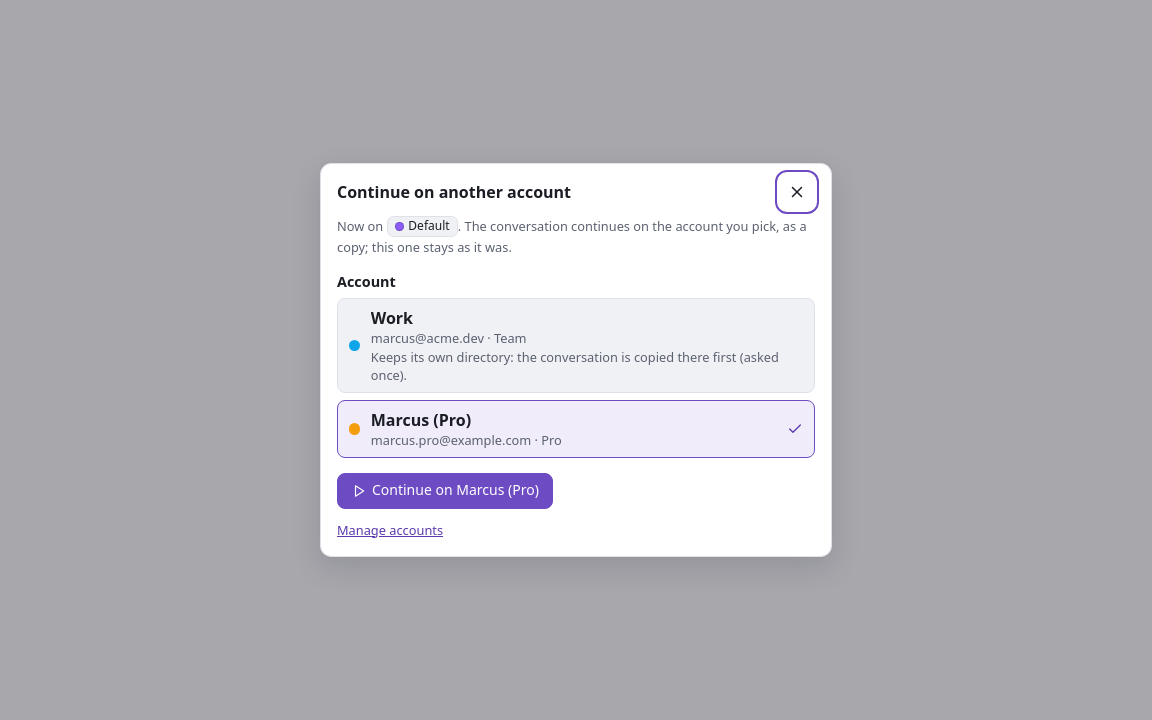
ContinueOnSheetComponent › "Not now" leaves everything as it was
Step 1. Click the radio button with class "opt" that starts with "Work" → (576, 345), box [337,298,815,393]
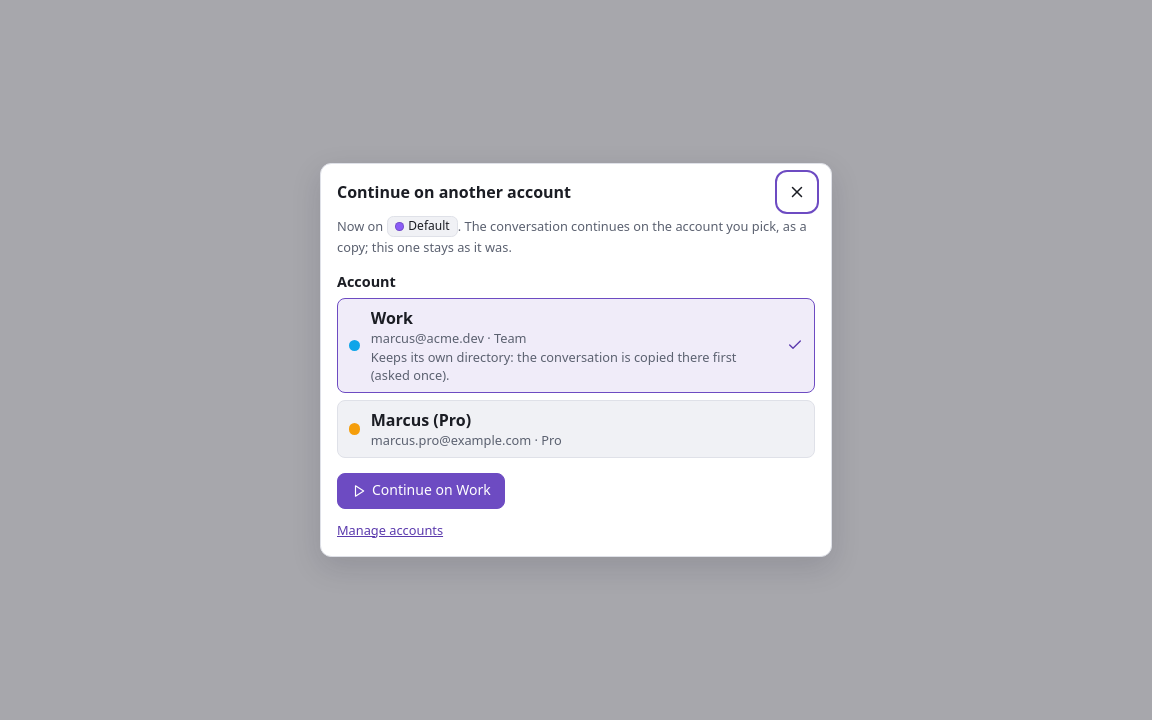
Step 2. Click the button "Continue on Work" → (421, 491), box [337,473,505,509]
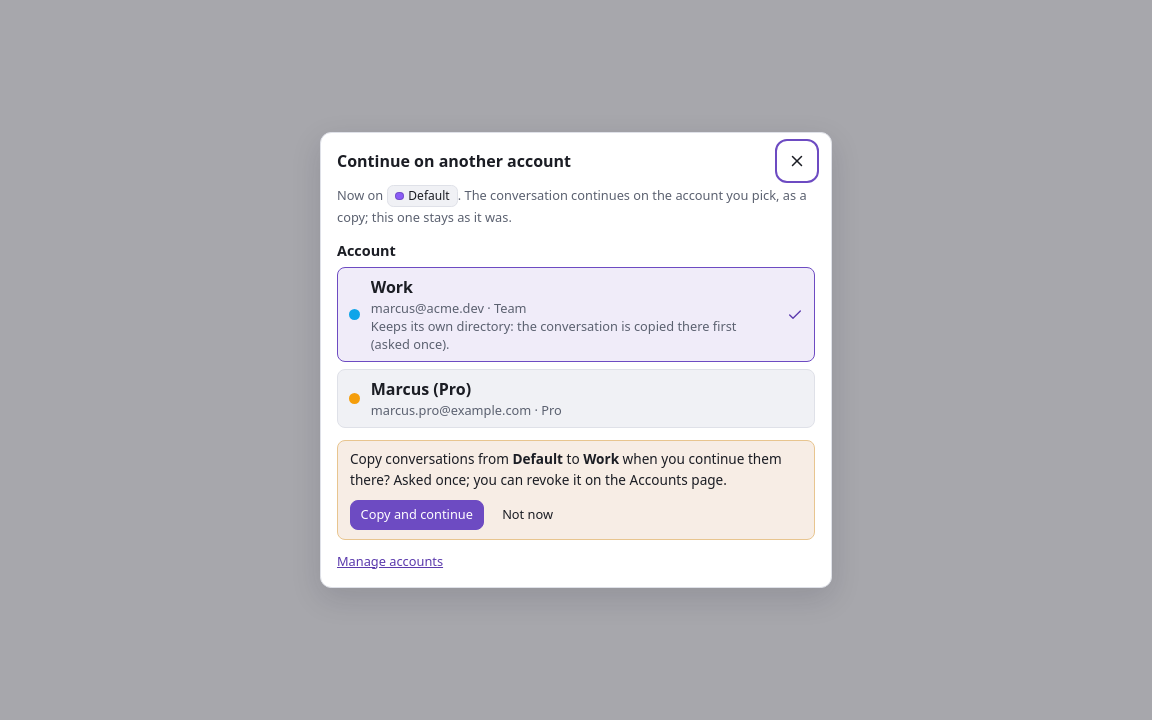
Step 3. Click the button with class "ghost" showing "Not now" → (528, 515), box [492,500,564,530]
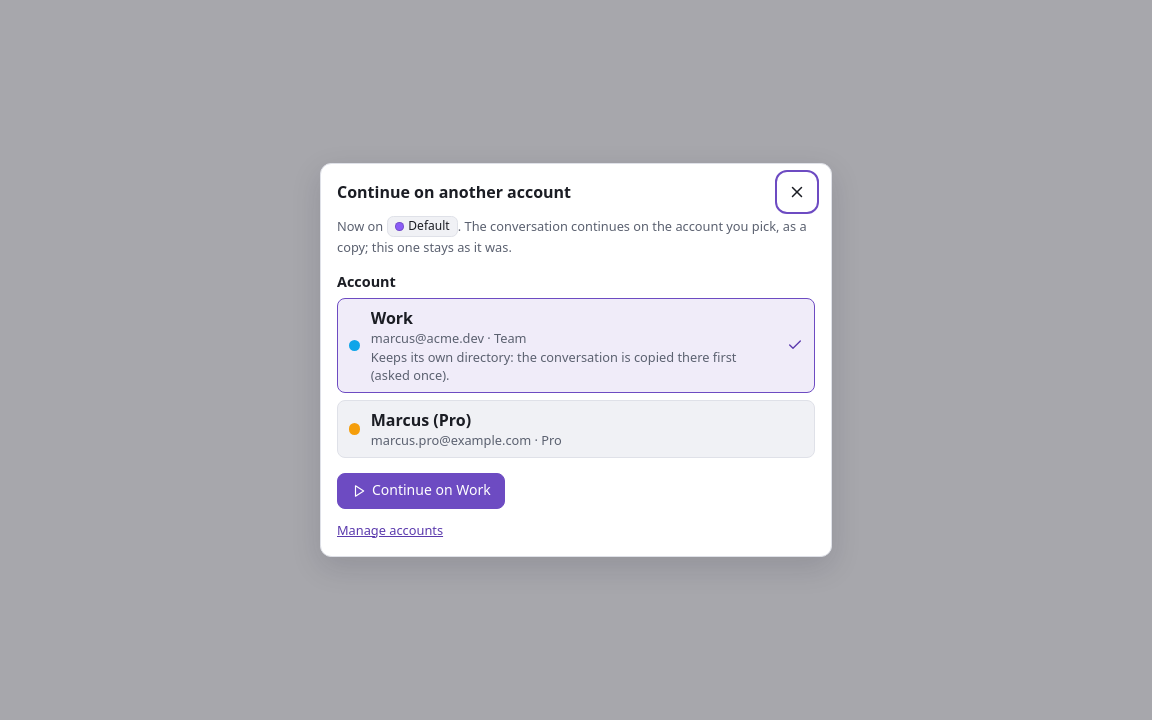
Result: the button "Continue on Work" is shown at [337,473,505,509]
